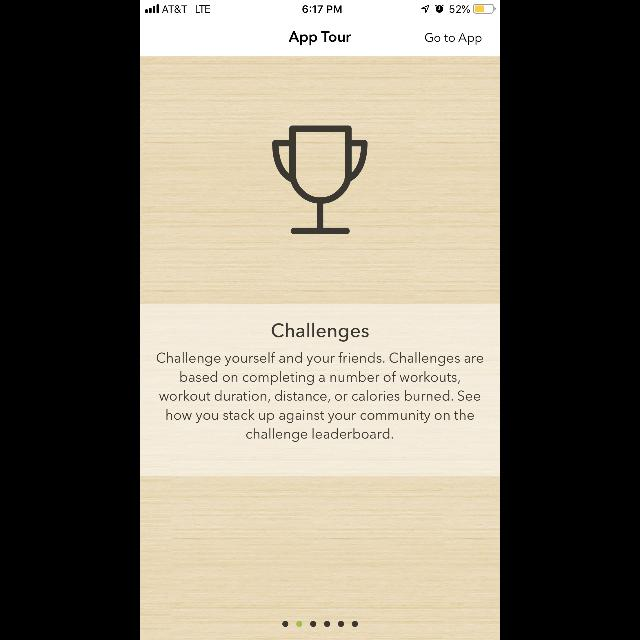image: (272, 126, 368, 234)
pageindicator: (282, 621, 358, 627)
text: (157, 352, 483, 442), (272, 322, 368, 342), (289, 31, 351, 45), (425, 33, 481, 45)
uppertaskbar: (140, 0, 500, 14)
